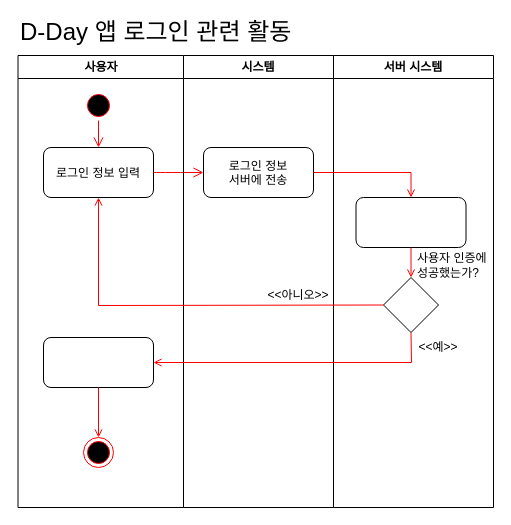
Some shapes in this 511 by 525 pixel diagram are drawn without their labels. The centre of each missing label's shape, as x and y in pixels:
로그인 성공: point (98, 362)
사용자 인증: point (410, 222)
